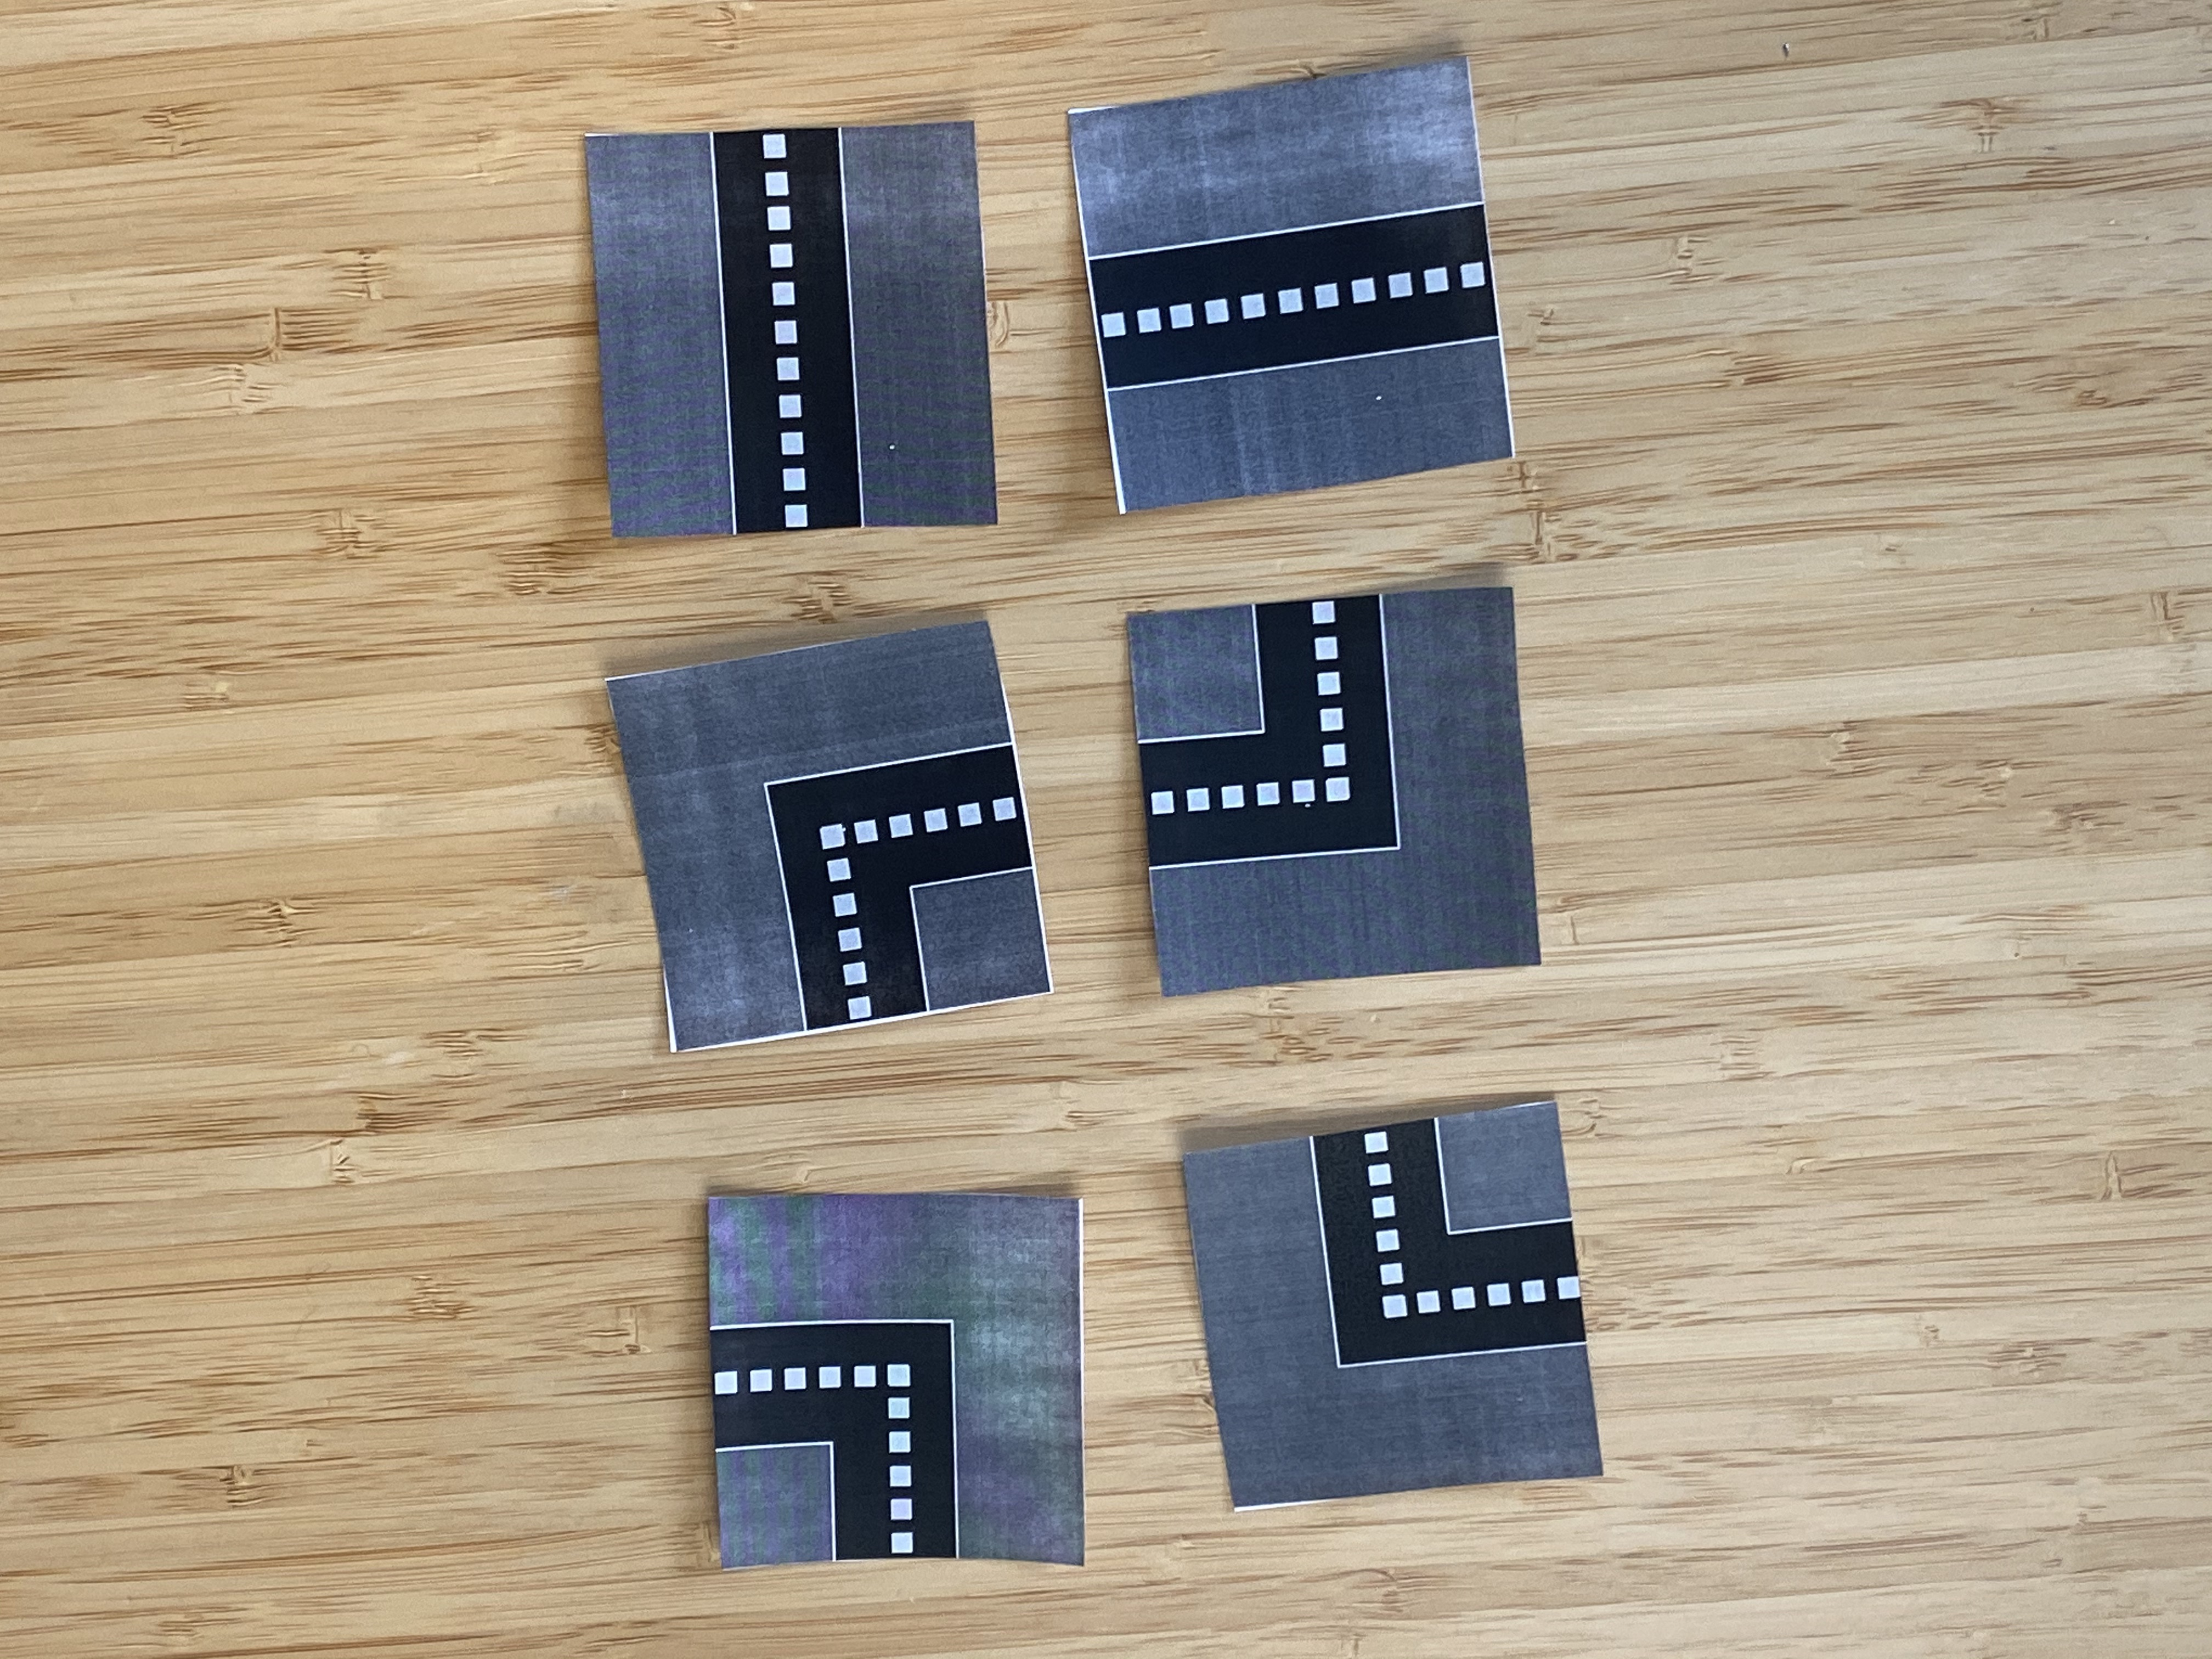down-left: (702, 1185, 1085, 1560)
right-down: (604, 619, 1052, 1044)
right-left: (1066, 58, 1519, 504)
up-down: (566, 117, 1000, 537)
up-left: (1122, 584, 1538, 981)
up-right: (1181, 1101, 1601, 1507)
